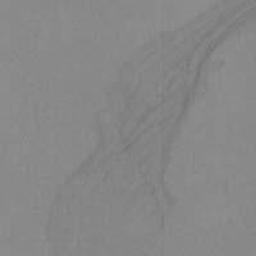Oil spot: (41, 0, 256, 255)
